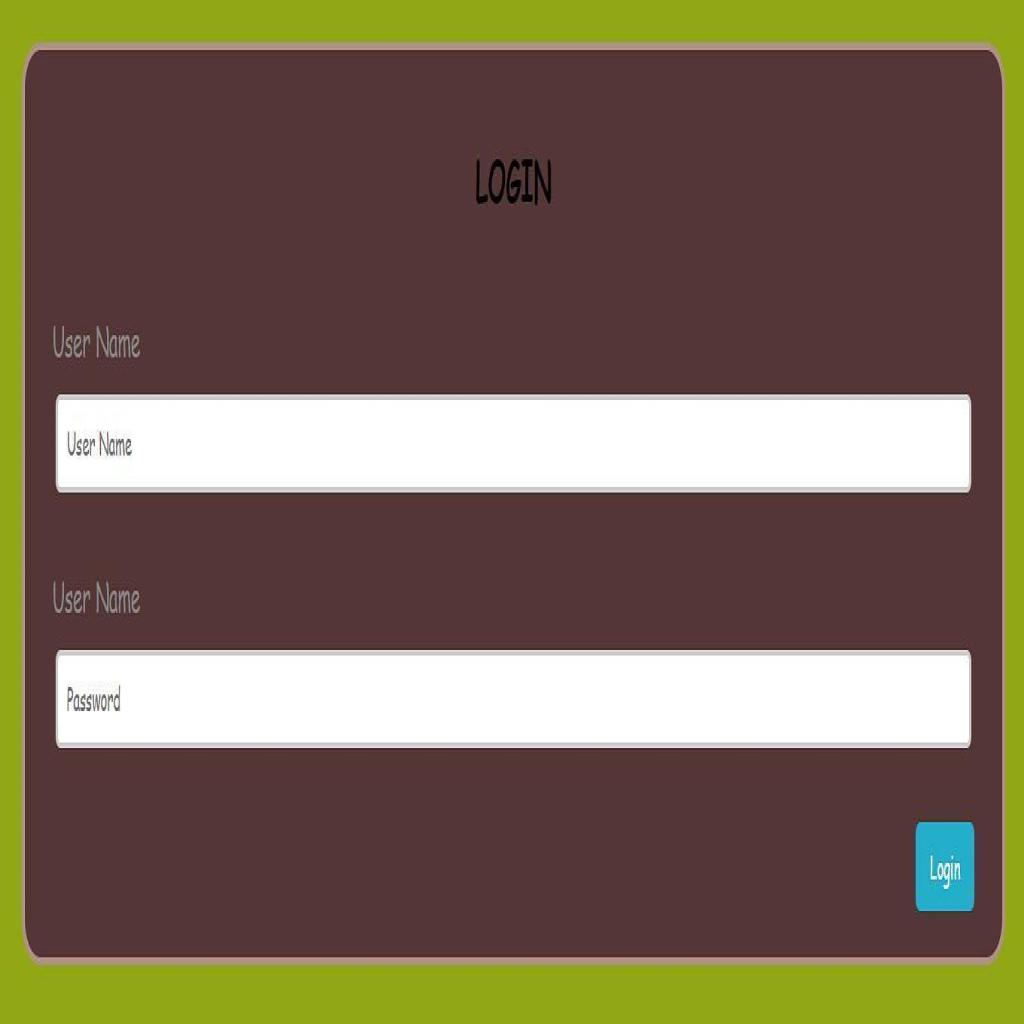button: (915, 816, 977, 918)
input: (56, 644, 971, 754), (55, 398, 971, 493)
label: (467, 148, 556, 213), (52, 574, 144, 622), (51, 322, 146, 363)
